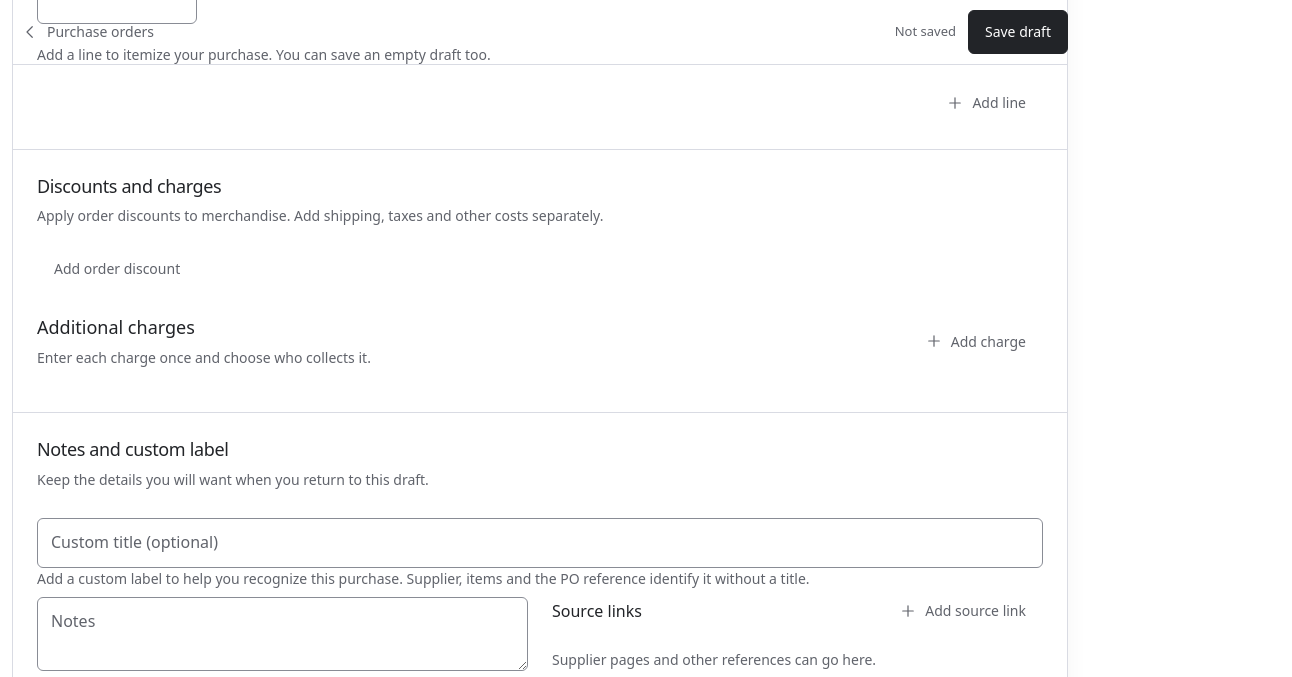
Test: retries only the current-detail read when a confirmed creation cannot be loaded
(page scrolled)
Type "Keep this" into the text box labelled "Notes" at [282, 634], box [37, 597, 528, 671]
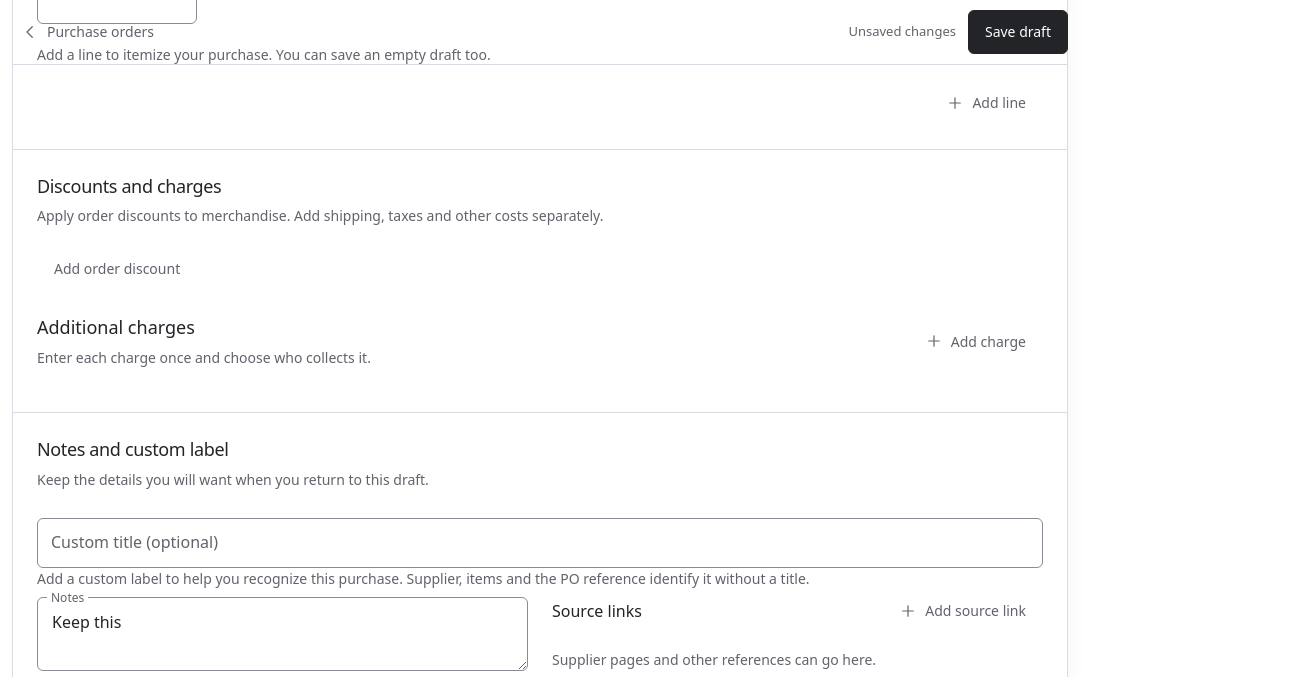
// WHEN saving and retrying the failed read.
Click the button "Save draft" at [1018, 32], box [968, 10, 1068, 54]
(page scrolled)
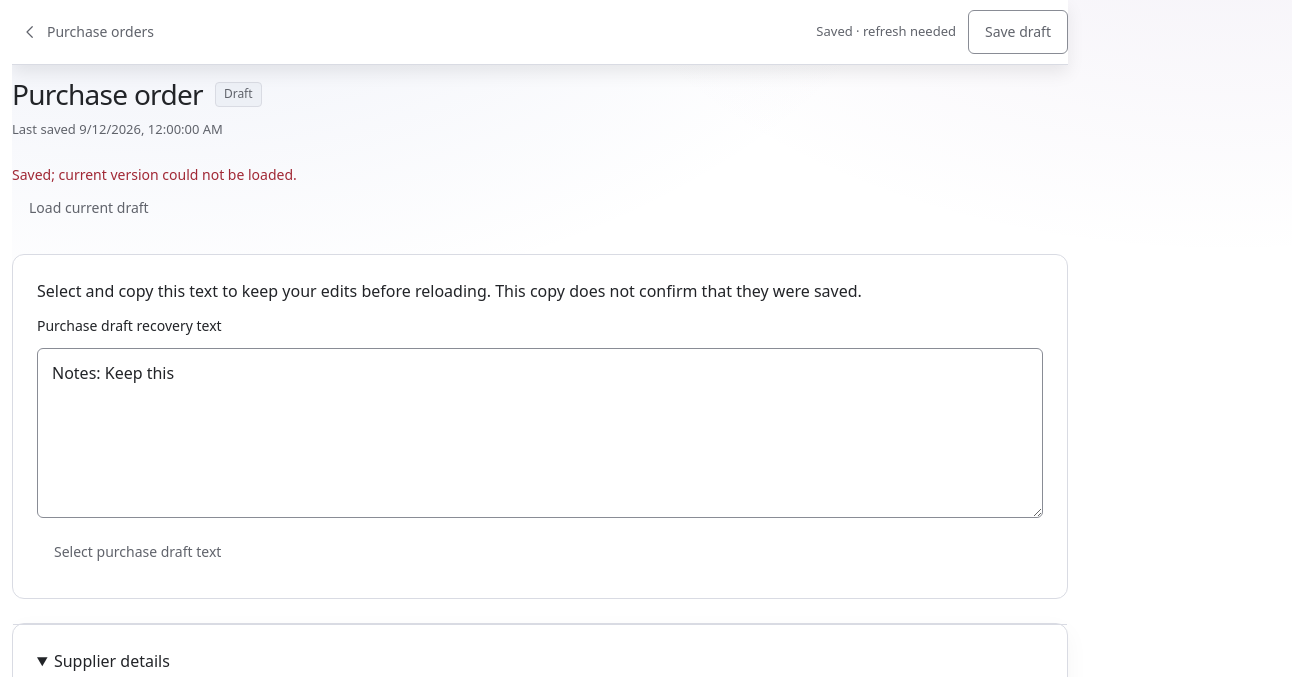
Now the text "Saved; current version could not be loaded." is shown, box [12, 164, 297, 184]
Click the button "Load current draft" at [89, 208], box [12, 186, 166, 230]
(page scrolled)
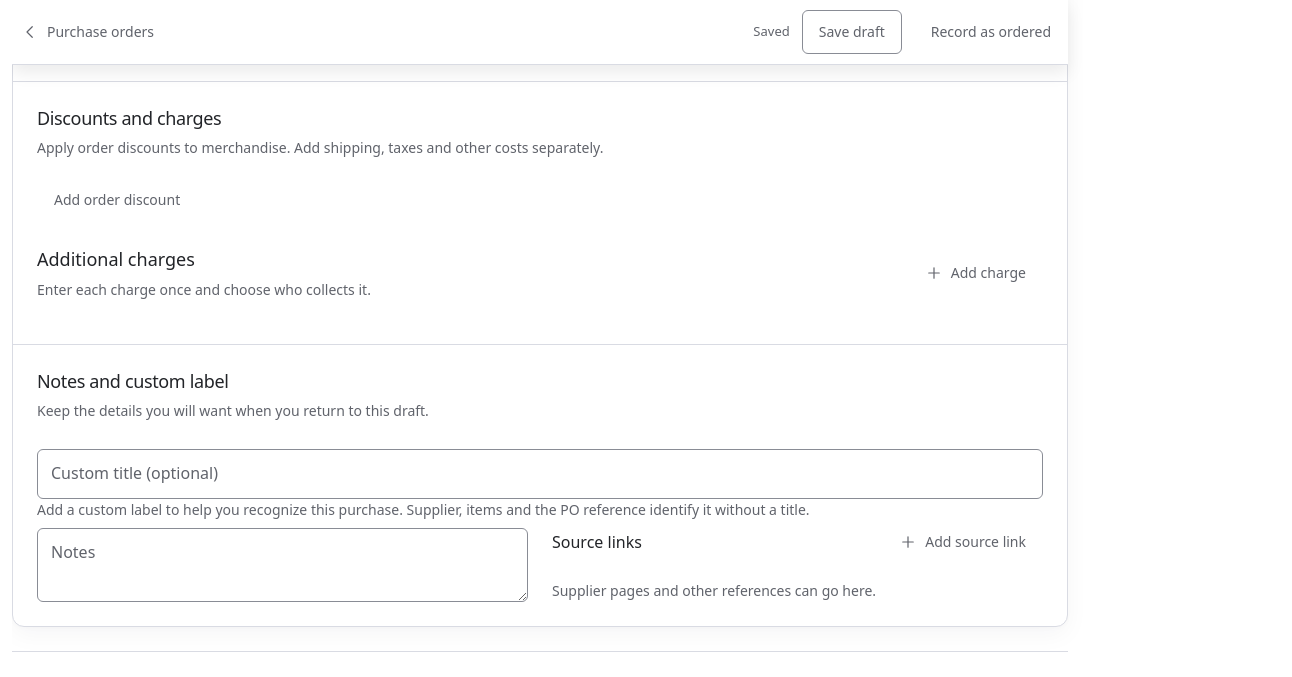
Now the field labelled "Custom title (optional)" is enabled, box [37, 449, 1043, 499]
